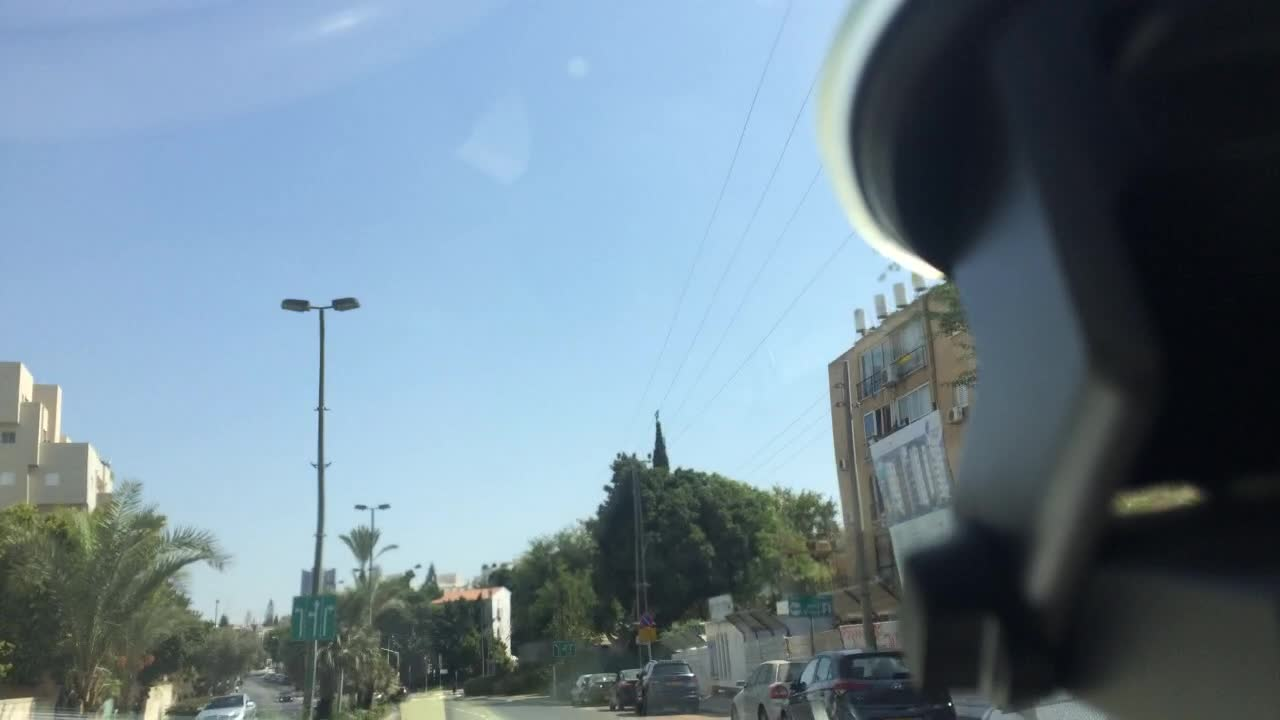car: (777, 644, 960, 717), (728, 662, 808, 717), (635, 659, 701, 718), (599, 673, 649, 708), (198, 694, 256, 719), (586, 675, 618, 706), (570, 673, 594, 705), (276, 689, 291, 703), (256, 668, 271, 680)
traffic light: (417, 659, 425, 676), (428, 661, 432, 676)
traffic sign: (289, 595, 339, 642), (783, 595, 832, 617), (636, 628, 660, 644), (640, 613, 654, 628)
